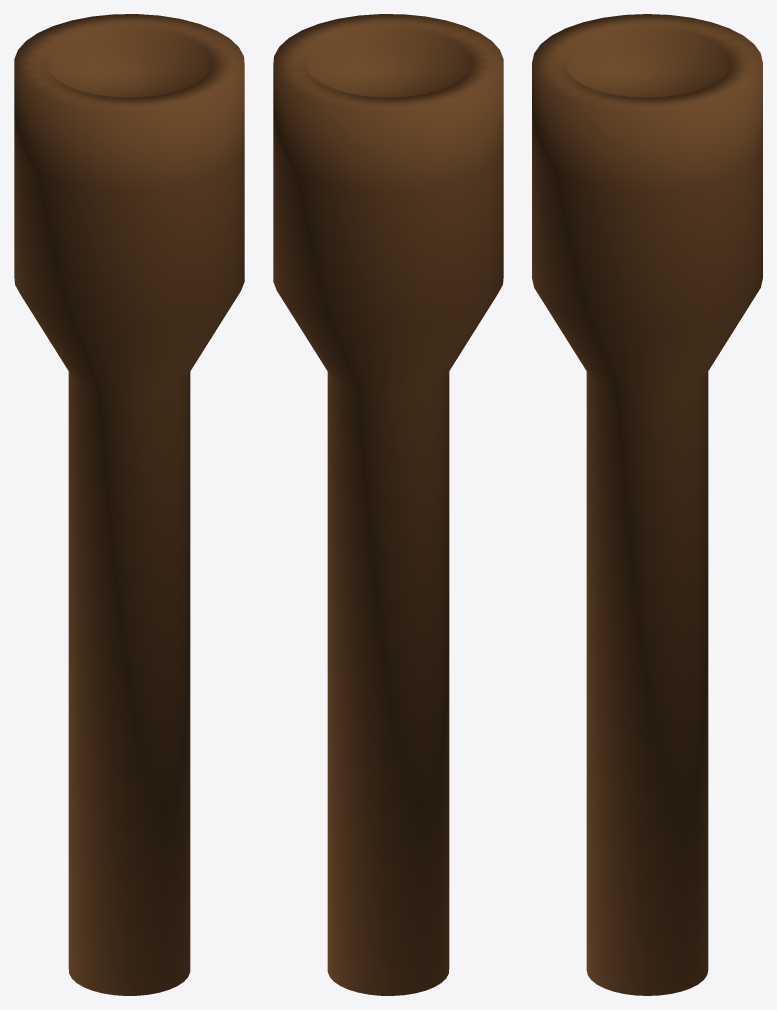
File: SimpleTorch.fbx
The picture shows the model from 3 angles, left to right: view 1: azimuth 30°, elevation 25°; view 2: azimuth 150°, elevation 25°; view 3: azimuth 270°, elevation 25°; orthographic projection.
Parts seen in each view (by area): view 1: Cylinder; view 2: Cylinder; view 3: Cylinder.
Boxes of the visible parts, box(x1,y1,x2,y2) form: Cylinder: box(14, 14, 244, 995); Cylinder: box(273, 14, 503, 995); Cylinder: box(532, 14, 762, 995).
Size of the model in its own units: 37.96 by 165 by 37.96.
